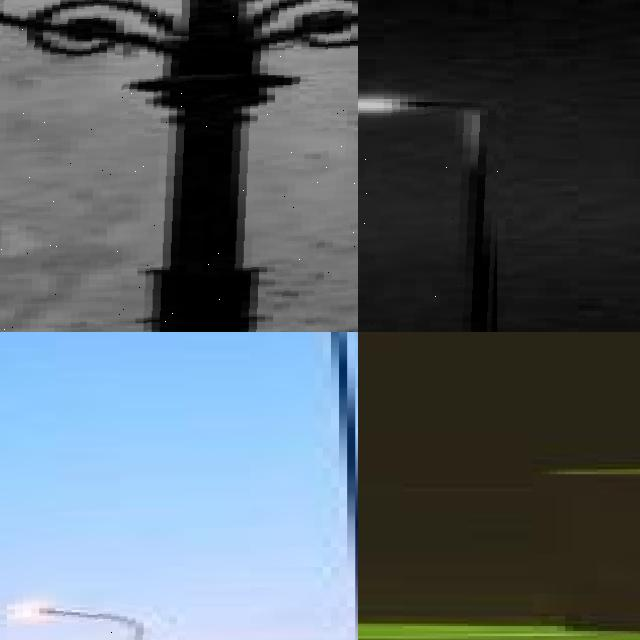street light: (0, 0, 358, 332), (23, 332, 358, 640), (358, 101, 502, 332)
